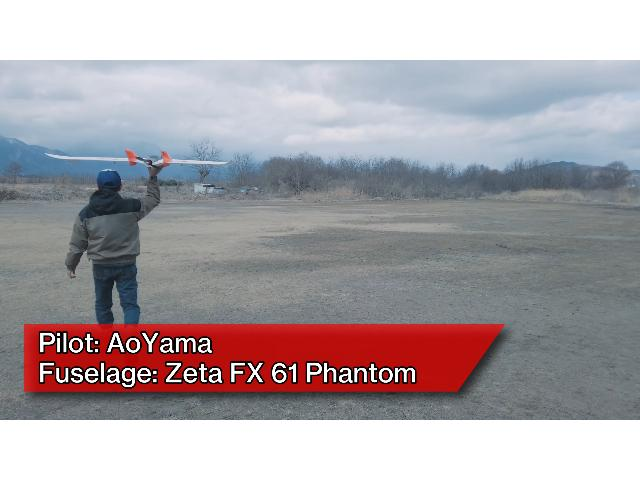Anti-Drone: (43, 146, 235, 168)
